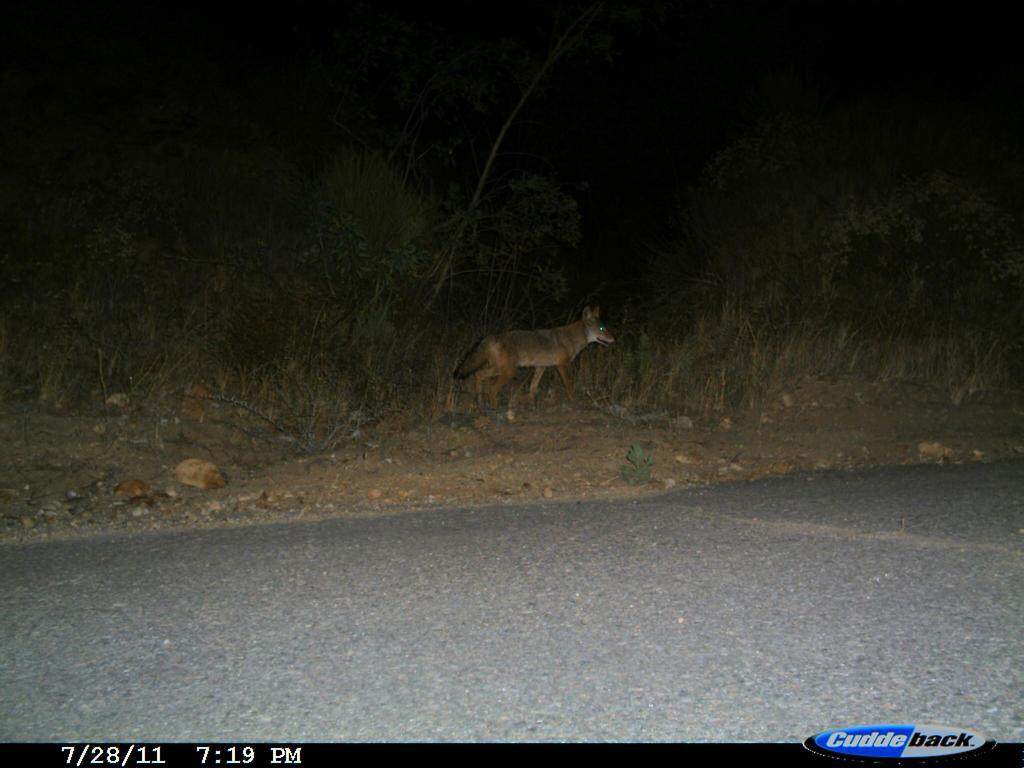coyote: (452, 303, 619, 412)
